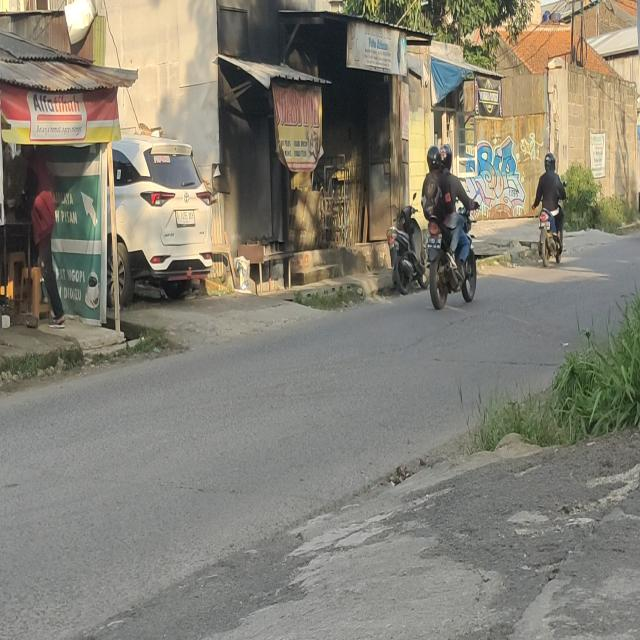helmet: (440, 142, 454, 170), (426, 144, 441, 170), (544, 153, 552, 172), (549, 151, 556, 171)
